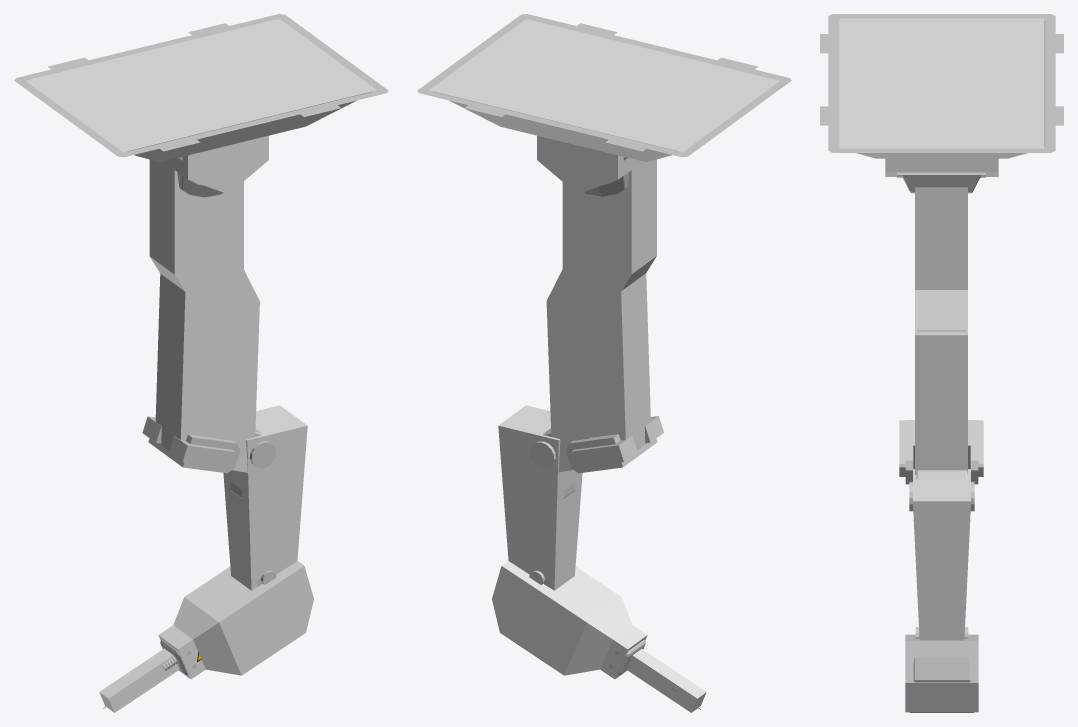
File: prop_15.fbx
3 views of the same model, side by side, from view 1: azimuth 30°, elevation 25°; view 2: azimuth 150°, elevation 25°; view 3: azimuth 270°, elevation 25° (orthographic). The views are drawn at different scales.
Parts seen in each view (by area): view 1: Cube.517, Cube.518, Cube.520, Cube.519, Plane.590, Cube.511, Cube.514, Cube.515; view 2: Cube.517, Cube.518, Cube.520, Cube.519, Plane.590, Cube.511, Cube.514, Cube.515; view 3: Cube.517, Cube.518, Cube.519, Plane.590, Cube.520, Cube.504, Cube.505, Cube.514, Cube.511, Cube.509.
Part boxes in pixels (x1,y1,x2,y2): Cube.517: [26, 19, 376, 194]; Cube.518: [149, 159, 259, 472]; Cube.520: [99, 561, 313, 712]; Cube.519: [223, 405, 307, 590]; Plane.590: [14, 14, 388, 157]; Cube.511: [142, 416, 236, 468]; Cube.514: [148, 434, 240, 473]; Cube.515: [230, 441, 276, 498]; Cube.517: [429, 19, 779, 194]; Cube.518: [546, 159, 656, 472]; Cube.520: [492, 561, 706, 712]; Cube.519: [498, 405, 582, 590]; Plane.590: [417, 14, 791, 157]; Cube.511: [569, 416, 663, 468]; Cube.514: [565, 434, 657, 473]; Cube.515: [529, 441, 575, 498]; Cube.517: [839, 18, 1044, 176]; Cube.518: [915, 187, 967, 474]; Cube.519: [913, 470, 970, 640]; Plane.590: [820, 14, 1063, 152]; Cube.520: [905, 634, 978, 712]; Cube.504: [910, 627, 973, 712]; Cube.505: [897, 172, 985, 193]; Cube.514: [905, 420, 978, 484]; Cube.511: [899, 420, 983, 476]; Cube.509: [916, 329, 967, 479].
Size of the model in its own units: 1.38 by 2.93 by 1.03.
